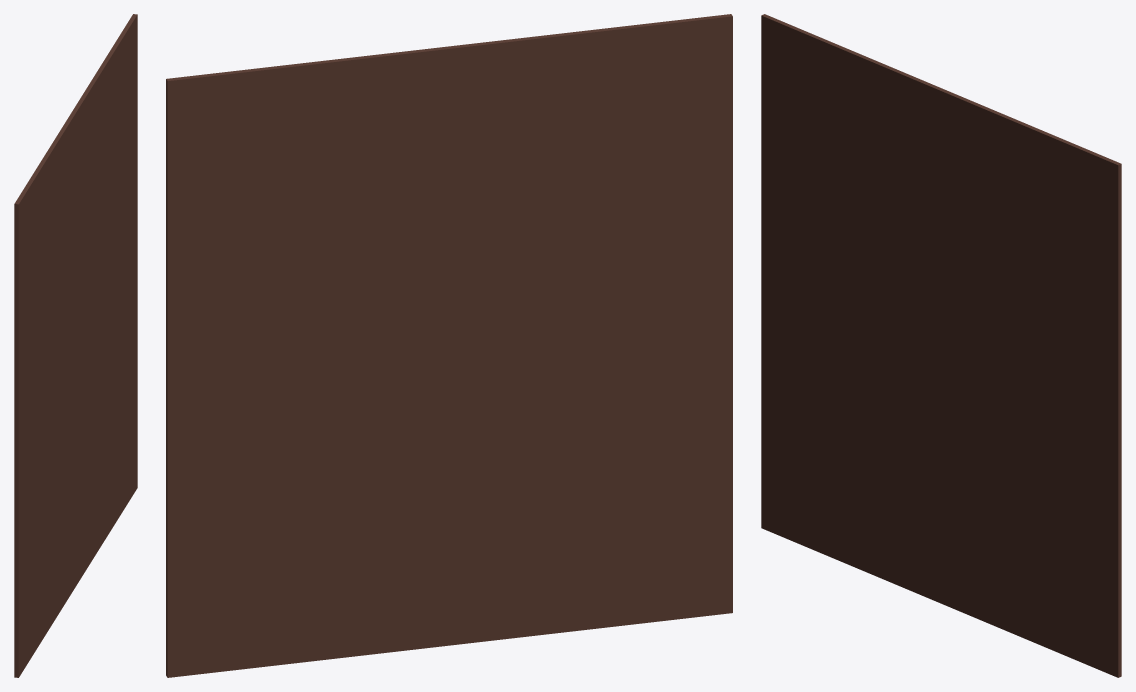
File: original-15.obj
3 renders of one model, left to right at view 1: azimuth 30°, elevation 25°; view 2: azimuth 150°, elevation 25°; view 3: azimuth 270°, elevation 25°, orthographic. The views are drawn at different scales.
Visible parts, largest first — view 1: _6mmdoorface1/_6mmdoorface/mesh6/mesh6-geometry#mesh6-geometry; view 2: _6mmdoorface1/_6mmdoorface/mesh6/mesh6-geometry#mesh6-geometry; view 3: _6mmdoorface1/_6mmdoorface/mesh6/mesh6-geometry#mesh6-geometry.
Boxes of the visible parts, left/top/right/bottom form: _6mmdoorface1/_6mmdoorface/mesh6/mesh6-geometry#mesh6-geometry: left=14, top=14, right=137, bottom=677; _6mmdoorface1/_6mmdoorface/mesh6/mesh6-geometry#mesh6-geometry: left=166, top=14, right=732, bottom=677; _6mmdoorface1/_6mmdoorface/mesh6/mesh6-geometry#mesh6-geometry: left=761, top=14, right=1121, bottom=677.
Size of the model in its own units: 0.614 by 0.9701 by 0.6182.
